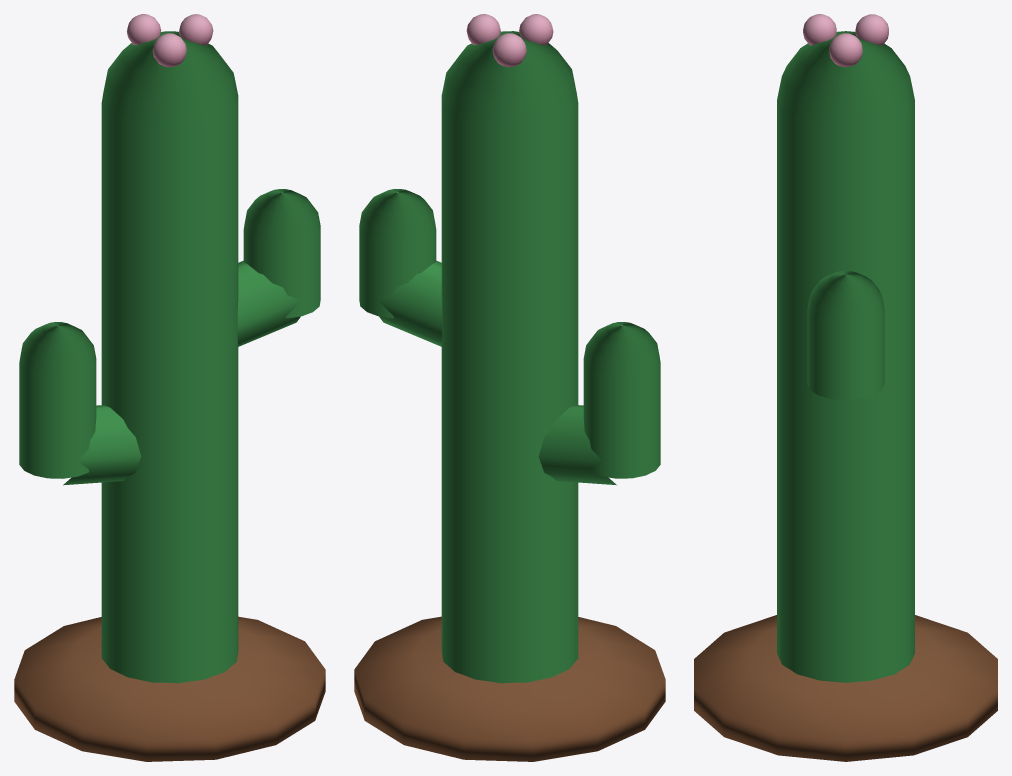
The model's file is storybook-plant-cactus.glb.
3 views of the same model, side by side, from view 1: azimuth 30°, elevation 25°; view 2: azimuth 150°, elevation 25°; view 3: azimuth 270°, elevation 25° (orthographic).
Visible parts, largest first — view 1: storybook-plant-cactus; view 2: storybook-plant-cactus; view 3: storybook-plant-cactus.
Part boxes in pixels (x1,y1,x2,y2): storybook-plant-cactus: (14, 14, 325, 761); storybook-plant-cactus: (354, 14, 665, 761); storybook-plant-cactus: (694, 14, 997, 761).
Bounding box in the file's own units: 0.78 × 1.79 × 0.7047.
